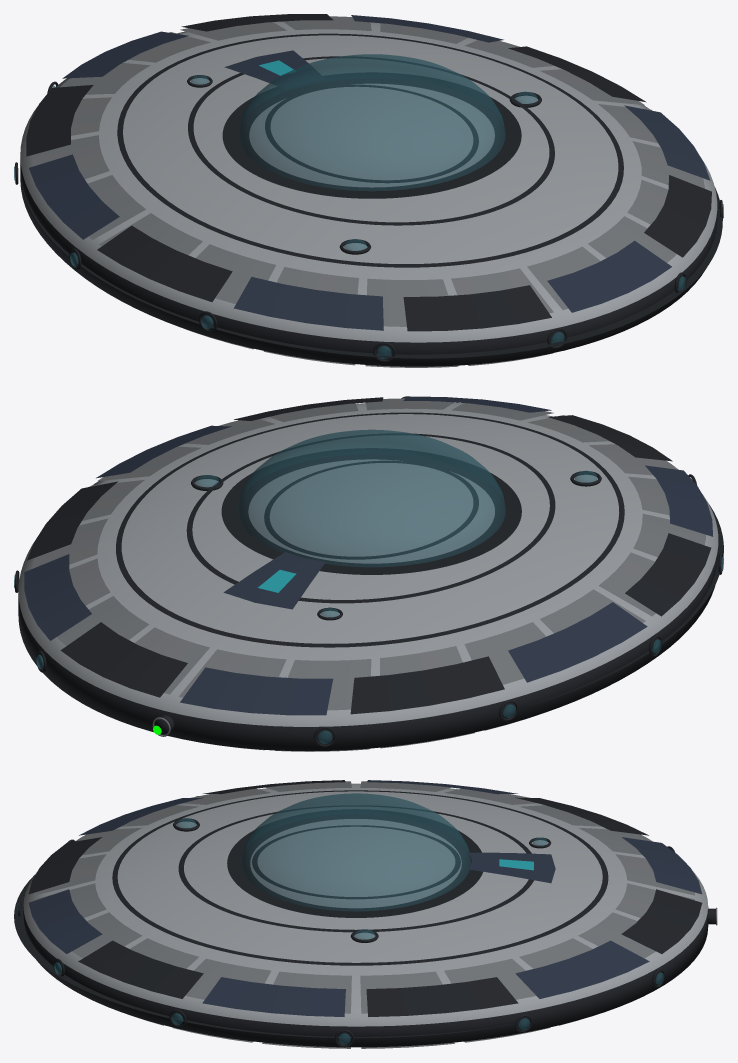
File: Ship_FlyingSaucer_779051.glb
3 renders of one model, top to bottom at view 1: azimuth 30°, elevation 25°; view 2: azimuth 150°, elevation 25°; view 3: azimuth 270°, elevation 25°, orthographic. The views are drawn at different scales.
Parts seen in each view (by area): view 1: Hull_LenticularThickDiscBody, CommandDomeGlass_CenteredFlattenedDome, CommandDomeFrame_UpperCircularRim, PaintDarkEquator_TopSegment_08, PaintDarkEquator_TopSegment_09, PanelRing_Top_03_DarkInsetLine, PaintDarkEquator_TopSegment_07, PaintDarkEquator_TopSegment_10, PaintDarkEquator_TopSegment_06, EquatorBand_DarkContinuousRimSeam, PaintDarkEquator_TopSegment_11, PanelRing_Top_02_DarkInsetLine (+28 smaller); view 2: Hull_LenticularThickDiscBody, CommandDomeGlass_CenteredFlattenedDome, CommandDomeFrame_UpperCircularRim, PaintDarkEquator_TopSegment_05, PaintDarkEquator_TopSegment_04, PanelRing_Top_03_DarkInsetLine, PaintDarkEquator_TopSegment_06, PaintDarkEquator_TopSegment_03, PaintDarkEquator_TopSegment_07, PaintDarkEquator_TopSegment_02, PanelRing_Top_02_DarkInsetLine, Decal_ForwardGlyph_PrimaryArrowPlate (+28 smaller); view 3: Hull_LenticularThickDiscBody, CommandDomeGlass_CenteredFlattenedDome, CommandDomeFrame_UpperCircularRim, PaintDarkEquator_TopSegment_01, PaintDarkEquator_TopSegment_12, PanelRing_Top_03_DarkInsetLine, PaintDarkEquator_TopSegment_02, PaintDarkEquator_TopSegment_11, PaintDarkEquator_TopSegment_03, PaintDarkEquator_TopSegment_10, PanelRing_Top_02_DarkInsetLine, PaintDarkEquator_TopSegment_04 (+28 smaller).
Part boxes in pixels (box(x1,y1,x2,y2)): Hull_LenticularThickDiscBody: box(20, 21, 717, 366); CommandDomeGlass_CenteredFlattenedDome: box(238, 54, 505, 191); CommandDomeFrame_UpperCircularRim: box(222, 72, 521, 198); PaintDarkEquator_TopSegment_08: box(234, 276, 383, 330); PaintDarkEquator_TopSegment_09: box(403, 285, 551, 331); PanelRing_Top_03_DarkInsetLine: box(117, 33, 623, 267); PaintDarkEquator_TopSegment_07: box(97, 225, 232, 301); PaintDarkEquator_TopSegment_10: box(547, 240, 671, 312); PaintDarkEquator_TopSegment_06: box(29, 154, 119, 239); EquatorBand_DarkContinuousRimSeam: box(23, 187, 722, 358); PaintDarkEquator_TopSegment_11: box(644, 175, 711, 257); PanelRing_Top_02_DarkInsetLine: box(188, 56, 554, 225); Hull_LenticularThickDiscBody: box(18, 402, 718, 751); CommandDomeGlass_CenteredFlattenedDome: box(237, 429, 505, 567); CommandDomeFrame_UpperCircularRim: box(221, 448, 521, 574); PaintDarkEquator_TopSegment_05: box(350, 656, 504, 714); PaintDarkEquator_TopSegment_04: box(180, 667, 333, 715); PanelRing_Top_03_DarkInsetLine: box(116, 412, 624, 647); PaintDarkEquator_TopSegment_06: box(508, 602, 647, 682); PaintDarkEquator_TopSegment_03: box(60, 622, 187, 697); PaintDarkEquator_TopSegment_07: box(625, 533, 711, 616); PaintDarkEquator_TopSegment_02: box(24, 554, 91, 640); PanelRing_Top_02_DarkInsetLine: box(186, 433, 555, 603); Decal_ForwardGlyph_PrimaryArrowPlate: box(223, 552, 325, 609); Hull_LenticularThickDiscBody: box(23, 783, 708, 1047); CommandDomeGlass_CenteredFlattenedDome: box(241, 793, 470, 911); CommandDomeFrame_UpperCircularRim: box(227, 809, 482, 917); PaintDarkEquator_TopSegment_01: box(366, 977, 518, 1016); PaintDarkEquator_TopSegment_12: box(202, 977, 345, 1016); PanelRing_Top_03_DarkInsetLine: box(112, 790, 608, 965); PaintDarkEquator_TopSegment_02: box(515, 940, 649, 998); PaintDarkEquator_TopSegment_11: box(78, 940, 203, 998); PaintDarkEquator_TopSegment_03: box(621, 889, 702, 953); PaintDarkEquator_TopSegment_10: box(28, 889, 102, 953); PanelRing_Top_02_DarkInsetLine: box(178, 805, 533, 932); PaintDarkEquator_TopSegment_04: box(621, 837, 701, 894).
Size of the model in its own units: 4.84 by 1.55 by 5.91.
